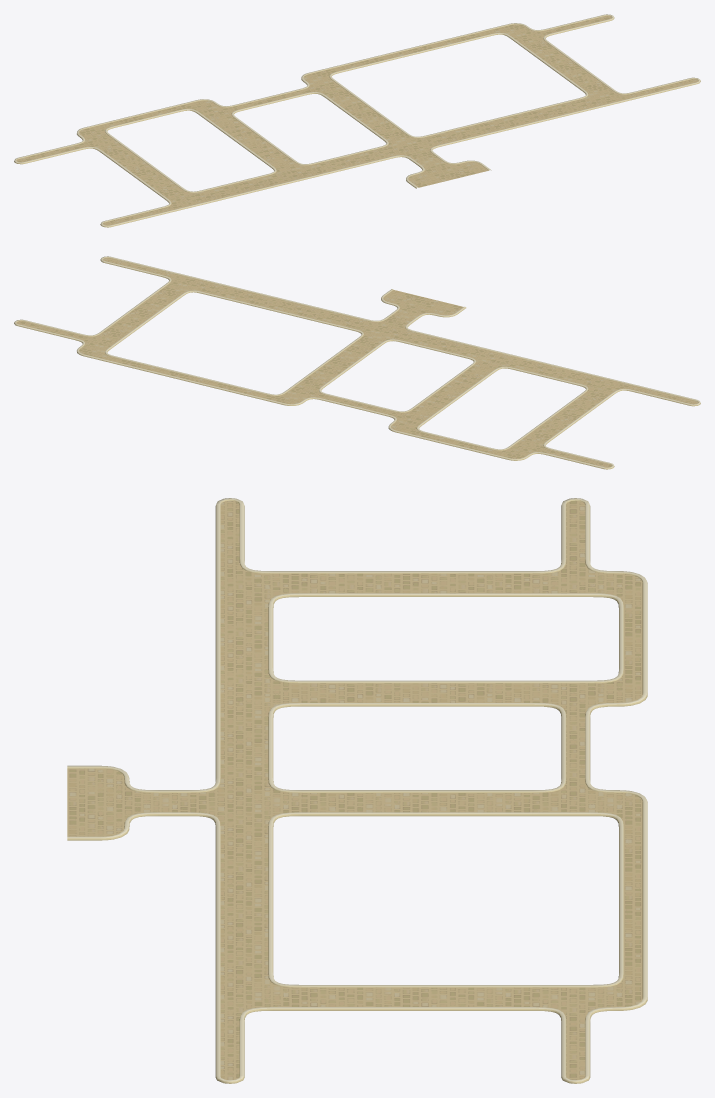
Rendered from road 1.fbx.
3 renders of one model, top to bottom at view 1: azimuth 30°, elevation 25°; view 2: azimuth 150°, elevation 25°; view 3: azimuth 270°, elevation 25°, orthographic. The views are drawn at different scales.
Visible parts, largest first — view 1: road; view 2: road; view 3: road.
Part boxes in pixels (box(x1,y1,x2,y2)): road: box(14, 14, 700, 227); road: box(14, 256, 700, 469); road: box(67, 498, 647, 1083).
Size of the model in its own units: 4800 by 7.51 by 2016.
